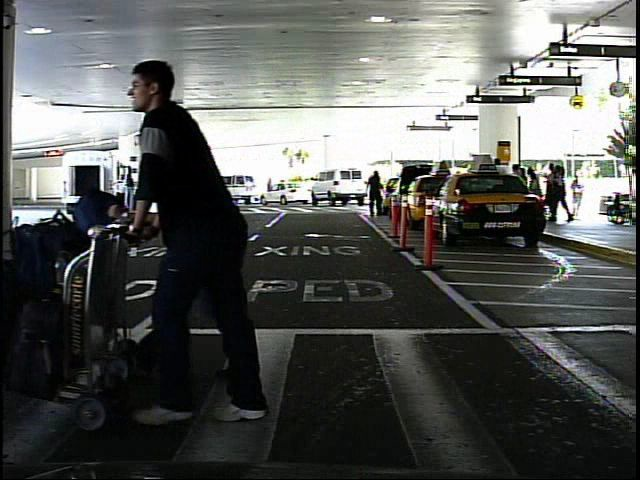person: (129, 45, 290, 424), (365, 167, 387, 223), (571, 172, 587, 218), (112, 170, 130, 210)
